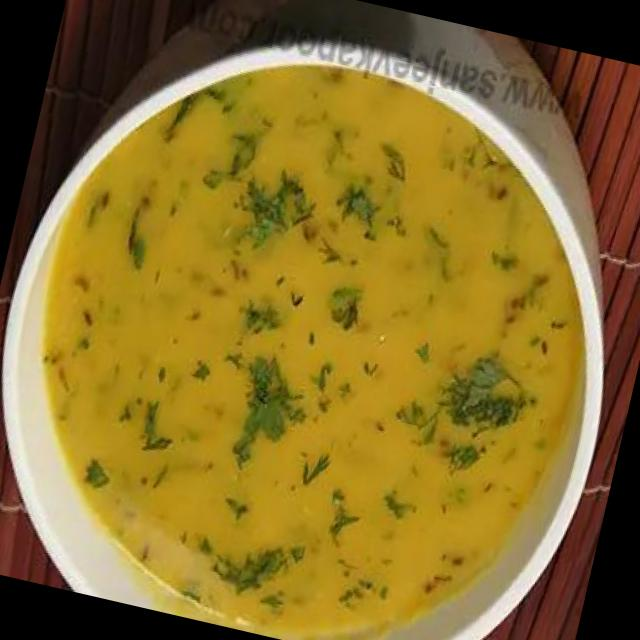dal: (0, 8, 631, 640)
